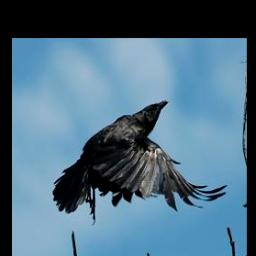Crow: (55, 98, 231, 226)
